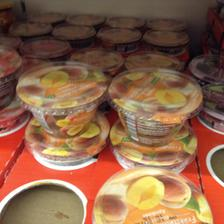Marmelade: (108, 66, 202, 146), (14, 60, 106, 136), (92, 166, 212, 222), (18, 34, 70, 58), (140, 28, 188, 52), (96, 26, 140, 50), (51, 22, 95, 46), (7, 19, 52, 37)
